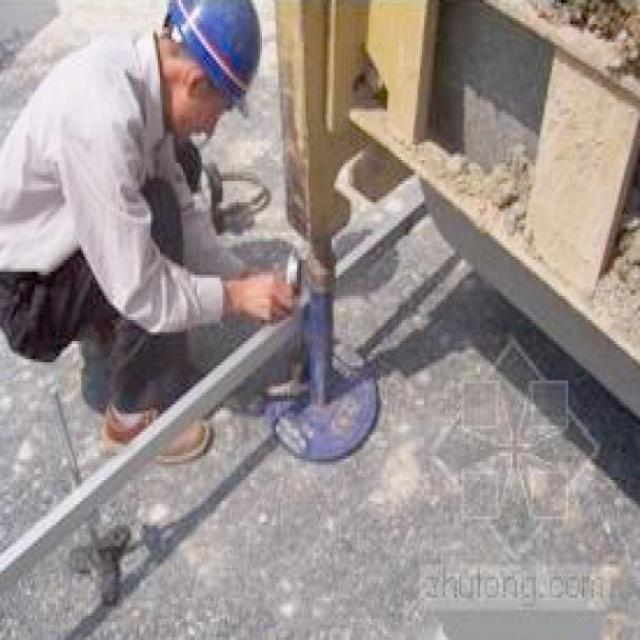helmet: (157, 0, 299, 144)
